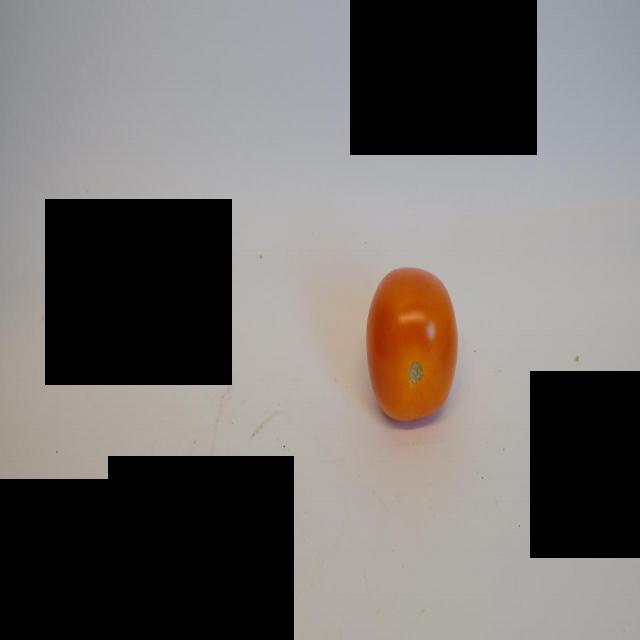tomato: (369, 260, 455, 438)
